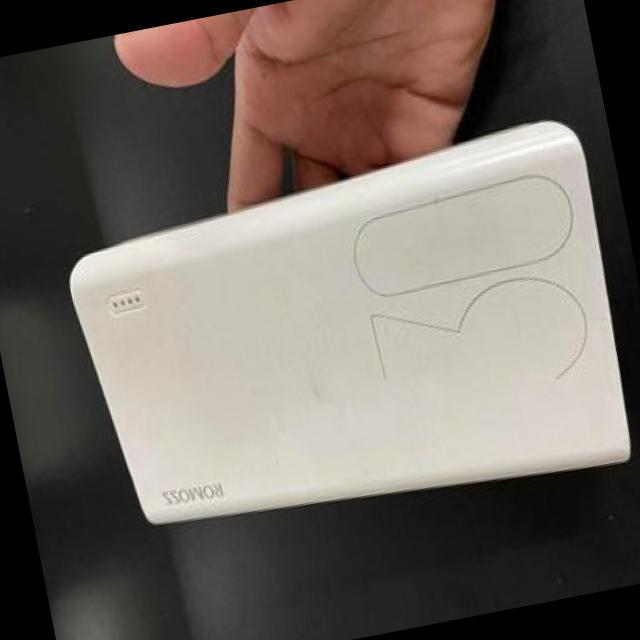power_bank: (46, 99, 640, 567)
